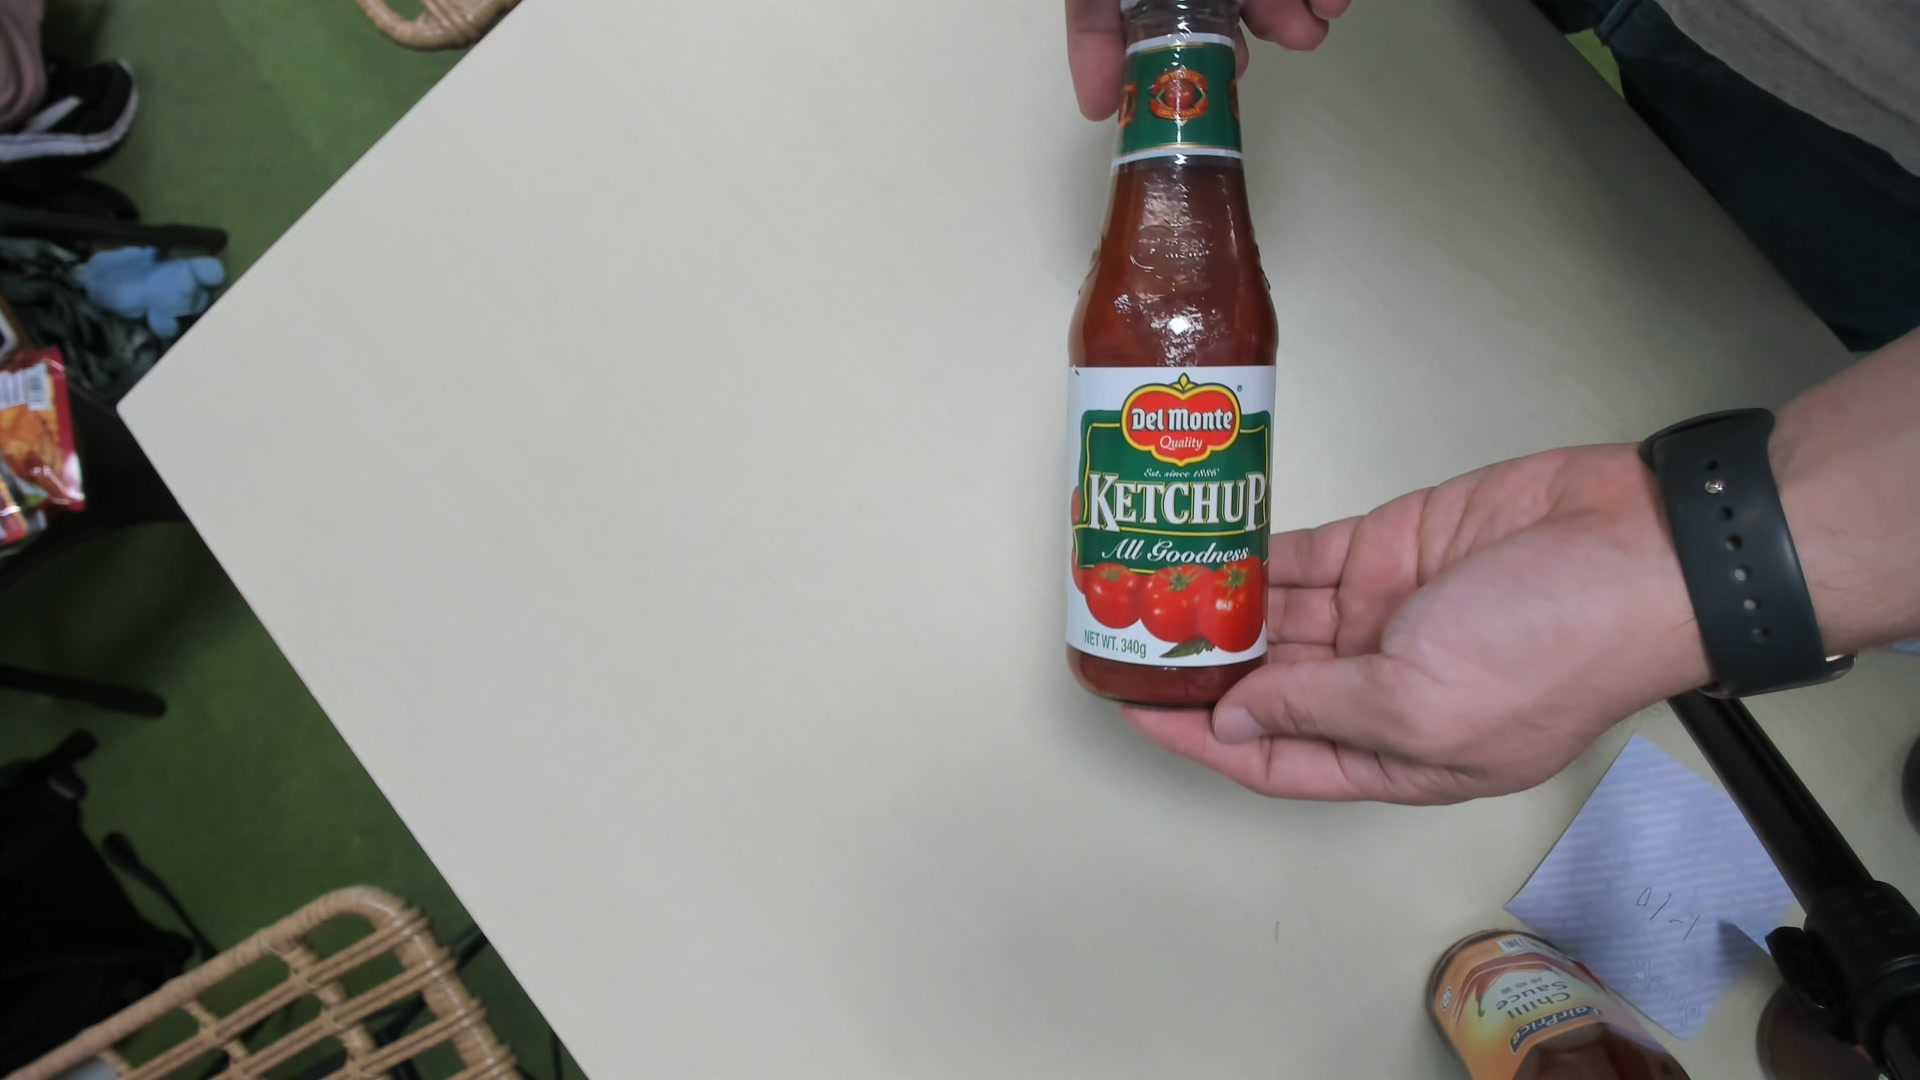KetchupChillSauce_300-399g_Halal_NonHealthy: (1055, 3, 1284, 705)
